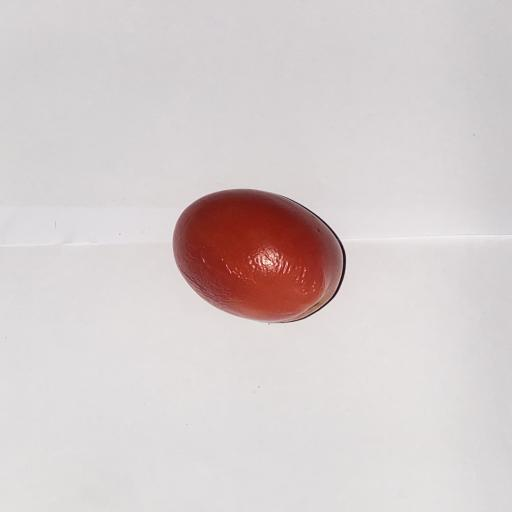spoiled: (173, 189, 344, 323)
